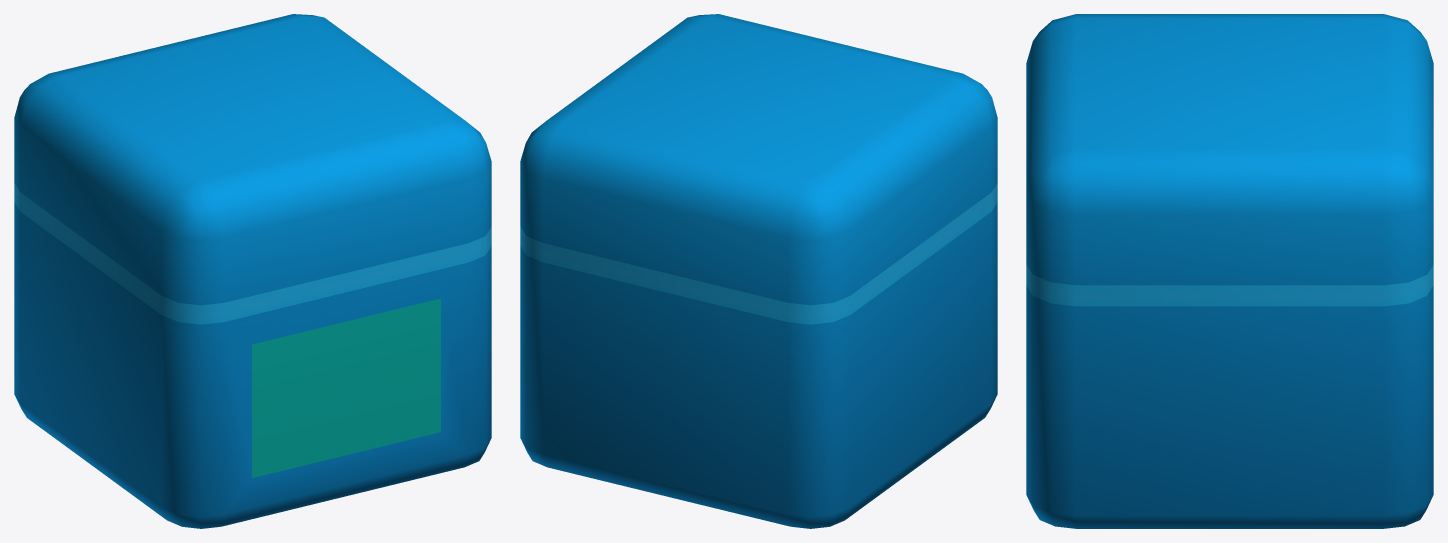
Rendered from Cream_003.fbx.
The picture shows the model from 3 angles, left to right: view 1: azimuth 30°, elevation 25°; view 2: azimuth 150°, elevation 25°; view 3: azimuth 270°, elevation 25°; orthographic projection. The views are drawn at different scales.
Visible parts, largest first — view 1: Cream_003; view 2: Cream_003; view 3: Cream_003.
Boxes of the visible parts, x1,y1,x2,y2 form: Cream_003: [14, 14, 491, 528]; Cream_003: [520, 14, 997, 528]; Cream_003: [1026, 14, 1433, 528].
Bounding box in the file's own units: 10 × 10 × 10.
